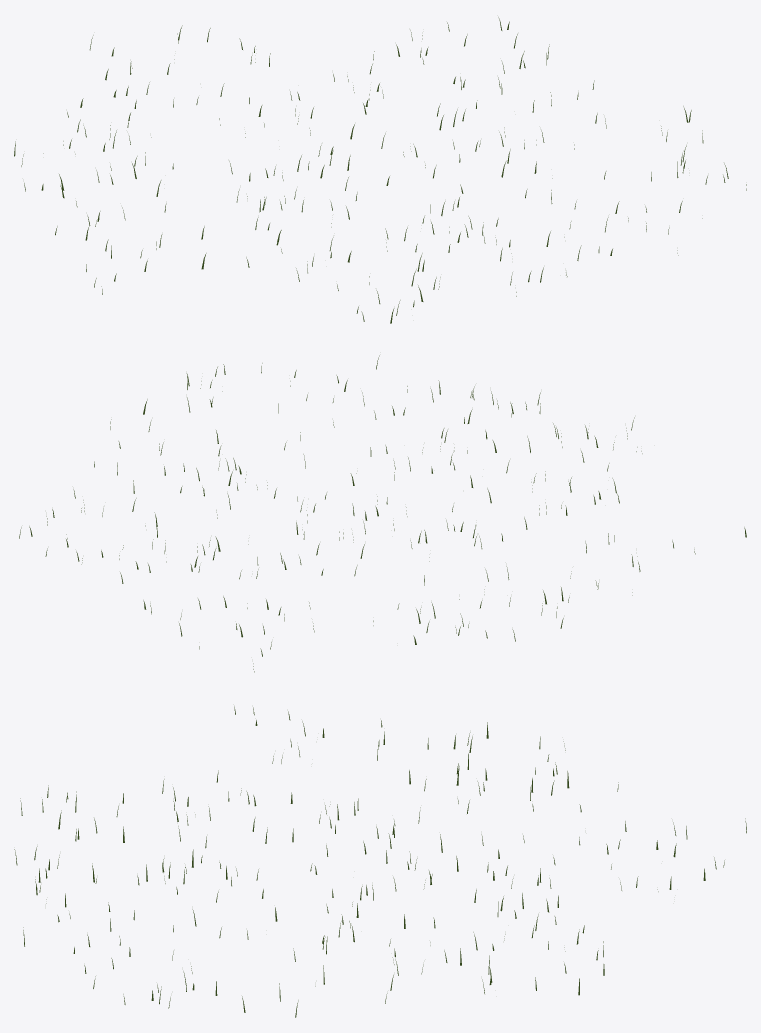
3 views of the same model, one above another, from view 1: azimuth 30°, elevation 25°; view 2: azimuth 150°, elevation 25°; view 3: azimuth 270°, elevation 25° (orthographic). The views are drawn at different scales.
Visible parts, largest first — view 1: GrassPatch; view 2: GrassPatch; view 3: GrassPatch.
Part boxes in pixels (bbox=[...]): GrassPatch: bbox=[14, 17, 746, 323]; GrassPatch: bbox=[19, 355, 746, 672]; GrassPatch: bbox=[14, 706, 746, 1017].
Size of the model in its own units: 16.36 by 0.4919 by 16.63.
